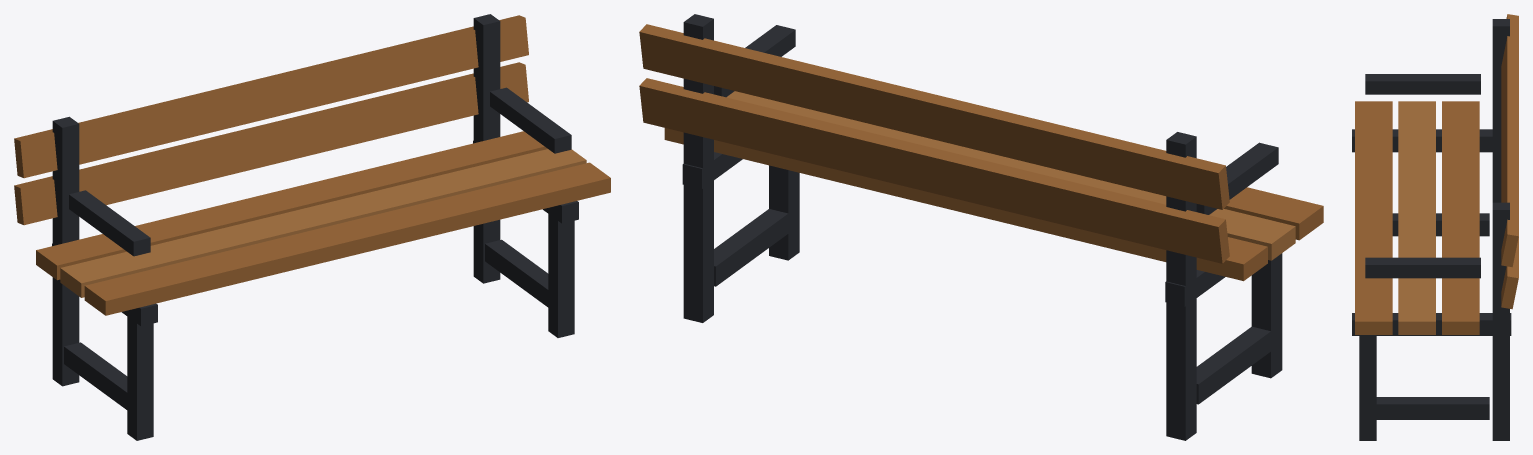
The model's file is bench.glb.
The picture shows the model from 3 angles, left to right: view 1: azimuth 30°, elevation 25°; view 2: azimuth 150°, elevation 25°; view 3: azimuth 270°, elevation 25°; orthographic projection. The views are drawn at different scales.
Parts seen in each view (by area): view 1: gh_bench; view 2: gh_bench; view 3: gh_bench.
Part boxes in pixels (left/top/right/bottom): gh_bench: left=14, top=14, right=610, bottom=440; gh_bench: left=639, top=14, right=1323, bottom=440; gh_bench: left=1352, top=14, right=1518, bottom=440.
Size of the model in its own units: 1.8 by 0.88 by 0.5754.
